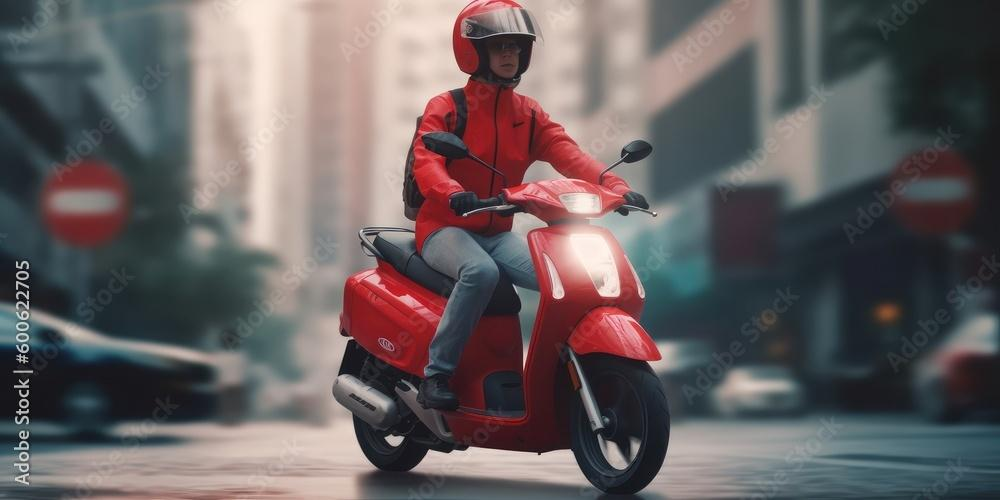helmet: (452, 0, 545, 90)
